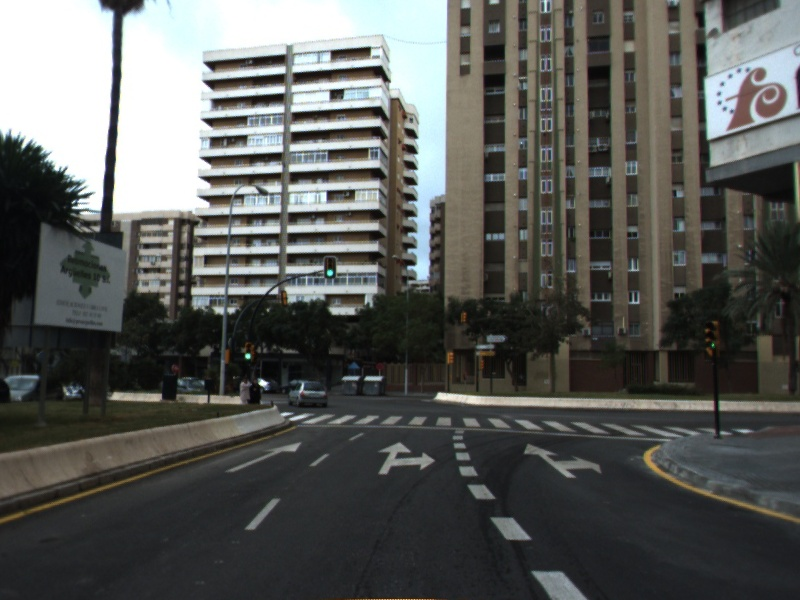STRAIGHT: (223, 440, 305, 474)
STRAIGHT_RIGHT: (522, 441, 604, 480), (376, 440, 438, 477)
